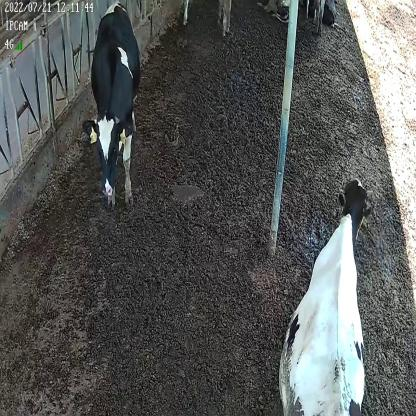cow: (276, 178, 375, 416), (79, 0, 142, 207)
